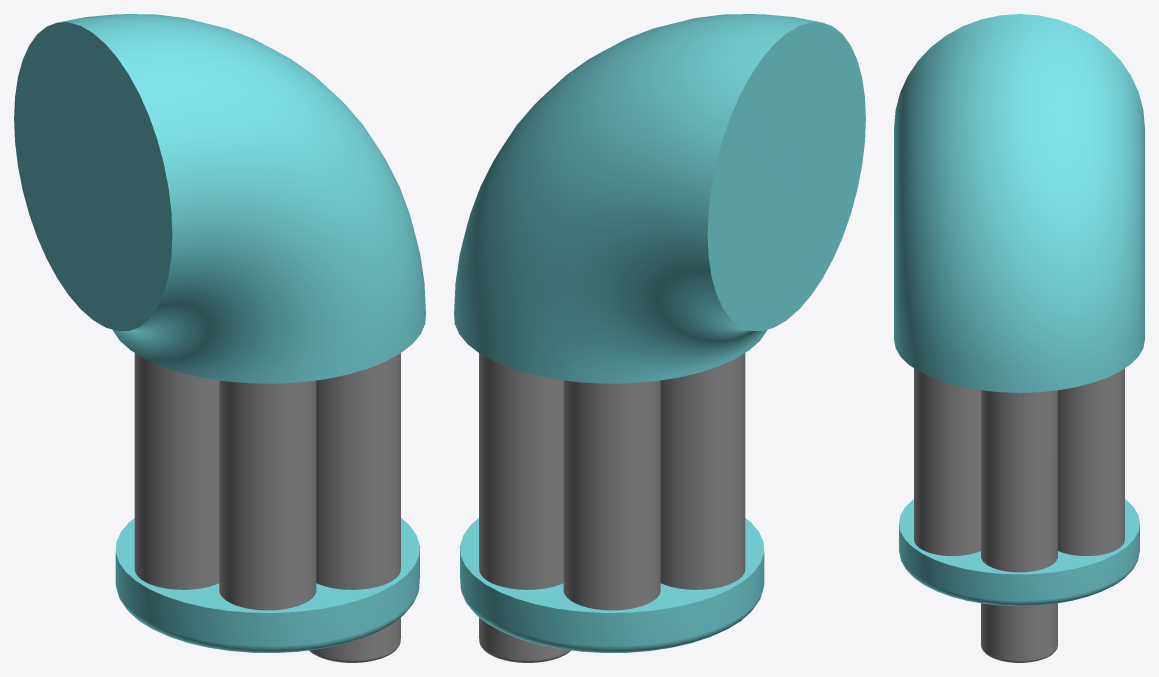
File: smilegrenadelauncher.fbx
The picture shows the model from 3 angles, left to right: view 1: azimuth 30°, elevation 25°; view 2: azimuth 150°, elevation 25°; view 3: azimuth 270°, elevation 25°; orthographic projection. The views are drawn at different scales.
Visible parts, largest first — view 1: pCylinder1, polySurface6, polySurface1, polySurface5, group7_pasted__pCylinder1, pasted__polySurface4; view 2: pCylinder1, polySurface2, polySurface1, polySurface3, group7_pasted__pCylinder1, pasted__polySurface4; view 3: pCylinder1, pasted__polySurface4, polySurface3, polySurface5, group7_pasted__pCylinder1.
Boxes of the visible parts, <box> form: pCylinder1: <box>14,14,425,383</box>; polySurface6: <box>219,380,316,610</box>; polySurface1: <box>134,353,219,589</box>; polySurface5: <box>316,353,400,589</box>; group7_pasted__pCylinder1: <box>115,518,419,652</box>; pasted__polySurface4: <box>309,617,400,662</box>; pCylinder1: <box>454,14,865,383</box>; polySurface2: <box>563,380,660,610</box>; polySurface1: <box>660,353,745,589</box>; polySurface3: <box>479,353,563,589</box>; group7_pasted__pCylinder1: <box>460,518,764,652</box>; pasted__polySurface4: <box>479,617,570,662</box>; pCylinder1: <box>894,14,1144,392</box>; pasted__polySurface4: <box>981,390,1057,662</box>; polySurface3: <box>1058,368,1124,555</box>; polySurface5: <box>914,368,980,555</box>; group7_pasted__pCylinder1: <box>899,499,1139,605</box>.
Bounding box in the file's own units: 7.39 × 15.26 × 6.5.
